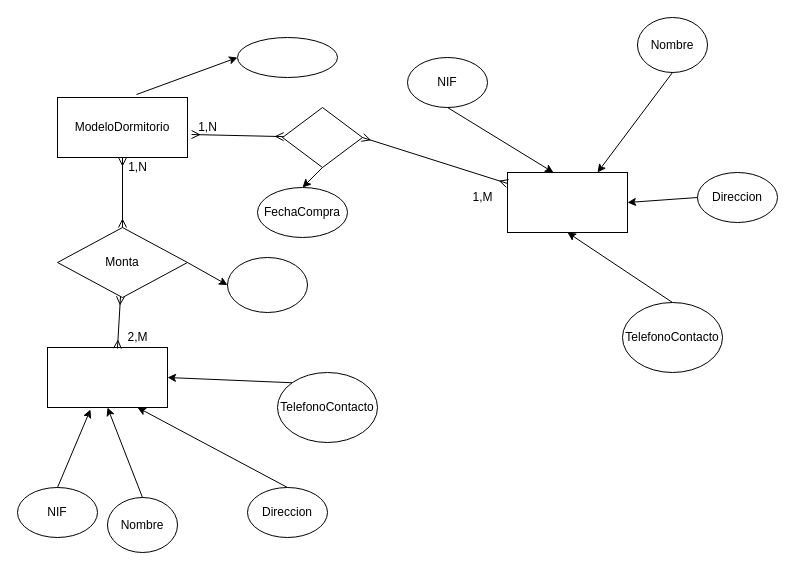
Image size: 795x570. Some labels were removed from this diagram. The centre of each missing label's shape, as x and y in pixels:
Cliente: the point at 567,202
CodigoModelo: the point at 287,57
Compra: the point at 322,137
FechaMontaje: the point at 267,284
Montador: the point at 107,377
